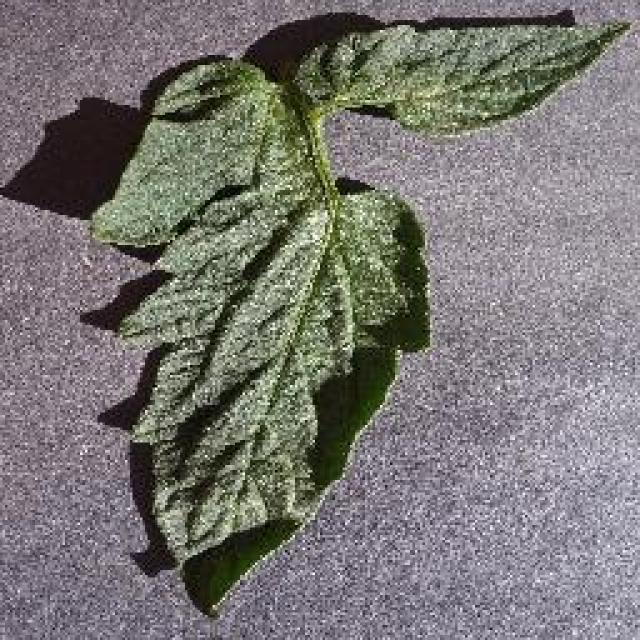Tomato___healthy: (77, 23, 630, 625)
